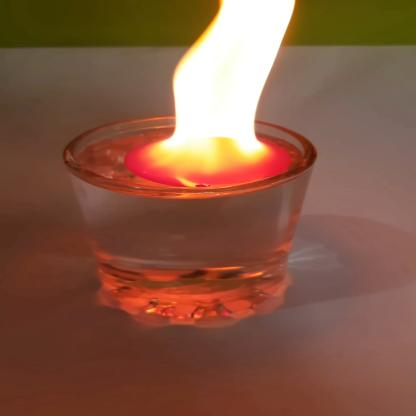Fire: (150, 0, 299, 162)
